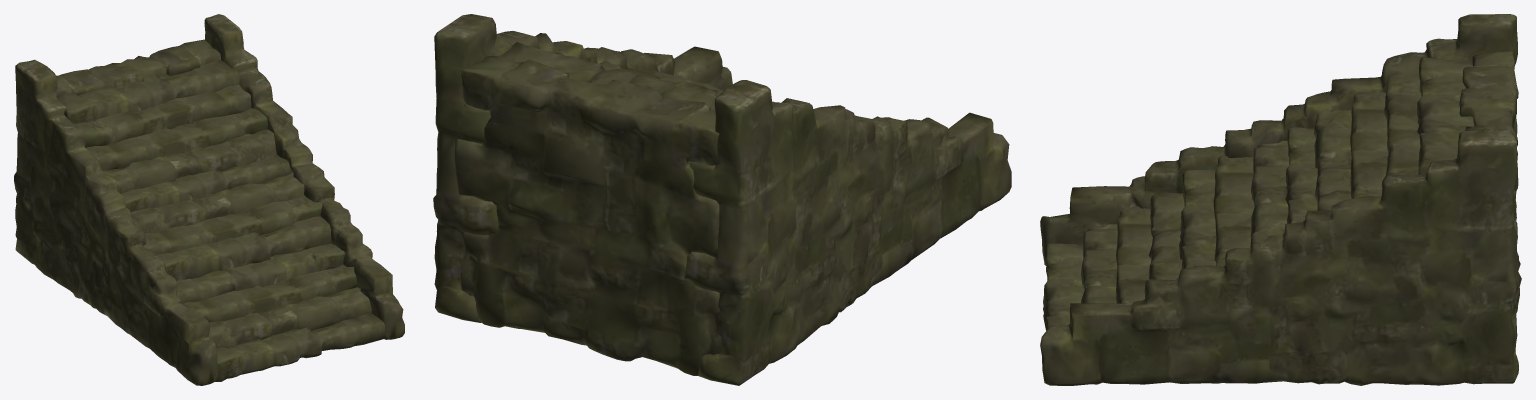
The model's file is Ruins_Stairs-transformed.glb.
3 renders of one model, left to right at view 1: azimuth 30°, elevation 25°; view 2: azimuth 150°, elevation 25°; view 3: azimuth 270°, elevation 25°, orthographic. The views are drawn at different scales.
Visible parts, largest first — view 1: Ruins_Stairs; view 2: Ruins_Stairs; view 3: Ruins_Stairs.
Boxes of the visible parts, <box> form: Ruins_Stairs: <box>14,14,404,385</box>; Ruins_Stairs: <box>433,14,1011,385</box>; Ruins_Stairs: <box>1040,14,1521,385</box>.
Size of the model in its own units: 4.45 by 3.82 by 6.71.
1 material, 1 textured.
